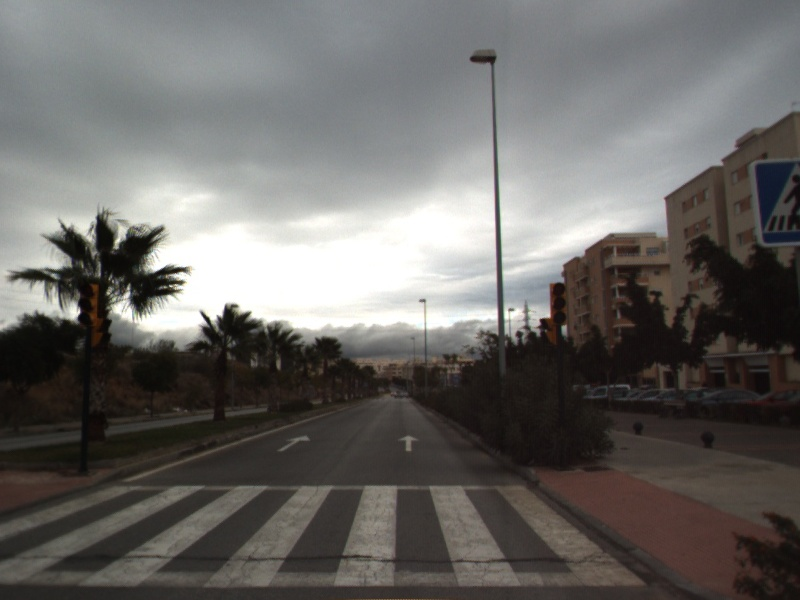STRAIGHT: (275, 433, 312, 453), (396, 433, 422, 453)
